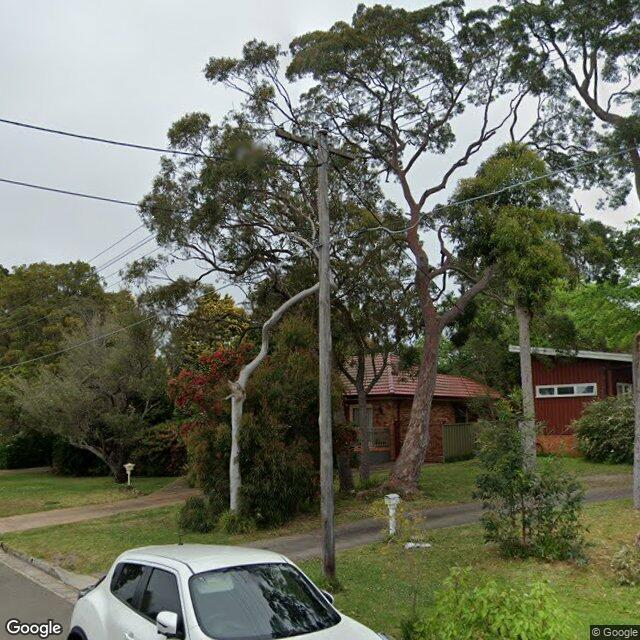crossarm: (273, 125, 359, 162)
timber-pole: (316, 128, 338, 592)
